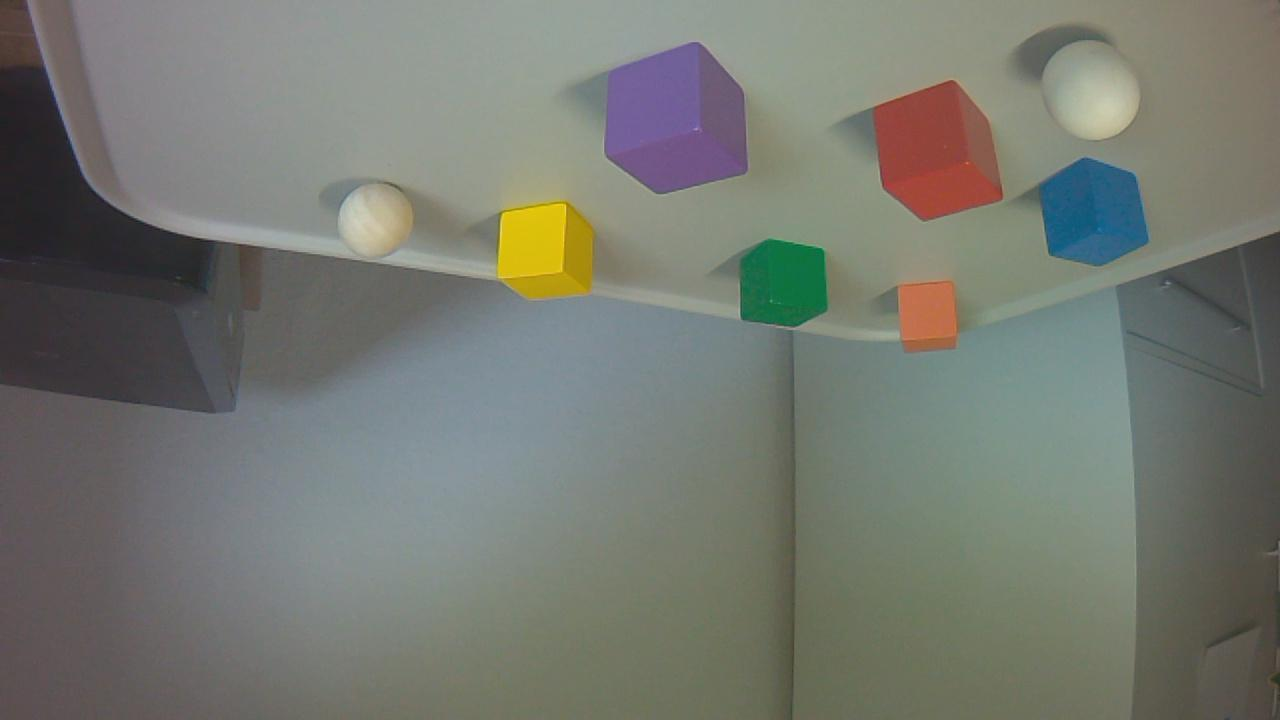ball: (1045, 45, 1140, 138), (332, 184, 419, 261)
cube_blue: (1039, 160, 1147, 267)
cube_green: (740, 240, 829, 327)
cube_orange: (895, 286, 960, 351)
cube_purple: (598, 47, 750, 190)
cube_red: (871, 84, 1005, 218)
cube_yellow: (496, 206, 598, 302)
